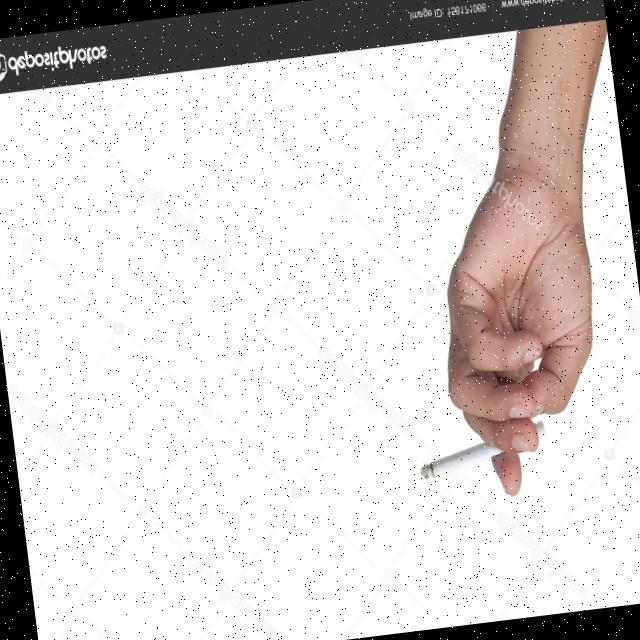cigarette: (401, 435, 504, 491)
